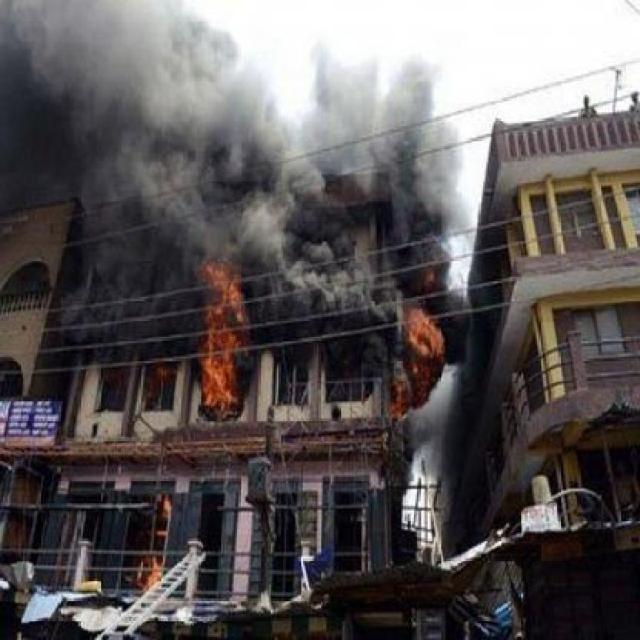Fire: (191, 272, 251, 421), (402, 296, 444, 422), (140, 530, 171, 598)
Smoke: (8, 8, 467, 270), (268, 278, 376, 366), (68, 294, 184, 373), (410, 398, 460, 479), (438, 280, 476, 368)
